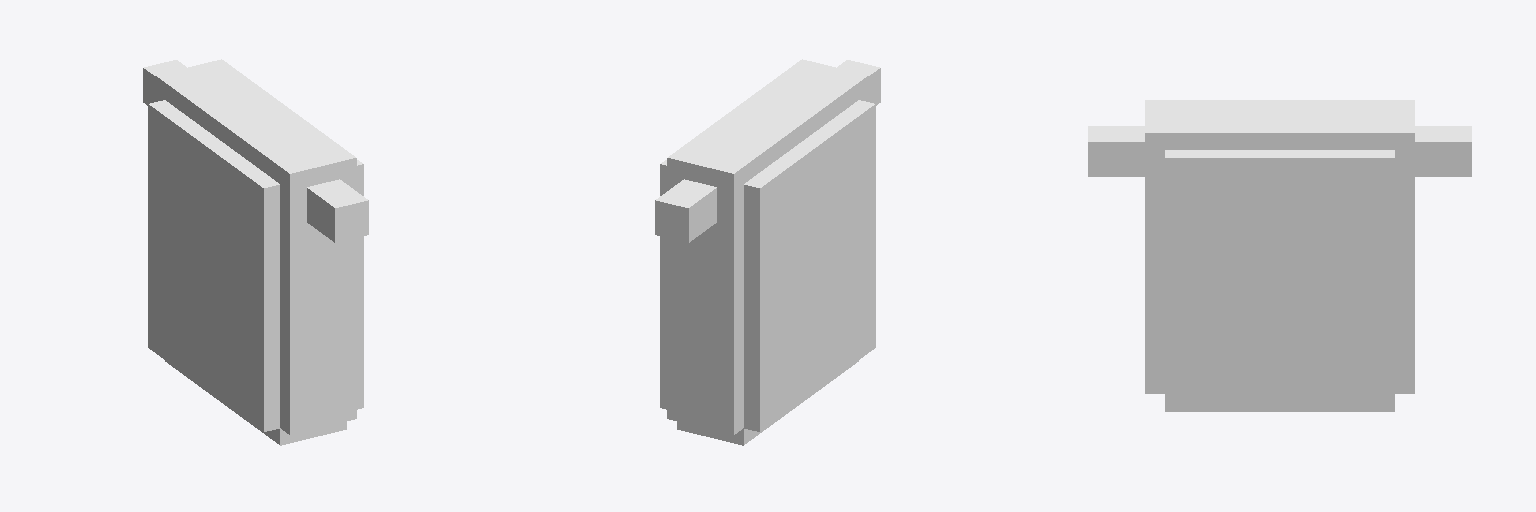
File: robo_bod.obj
3 renders of one model, left to right at view 1: azimuth 30°, elevation 25°; view 2: azimuth 150°, elevation 25°; view 3: azimuth 270°, elevation 25°, orthographic.
Visible parts, largest first — view 1: object 1; view 2: object 1; view 3: object 1.
Boxes of the visible parts, box(x1,y1,x2,y2) form: object 1: box(143, 59, 368, 445); object 1: box(655, 59, 880, 445); object 1: box(1088, 100, 1471, 411).
Size of the model in its own units: 0.6 by 1.6 by 2.